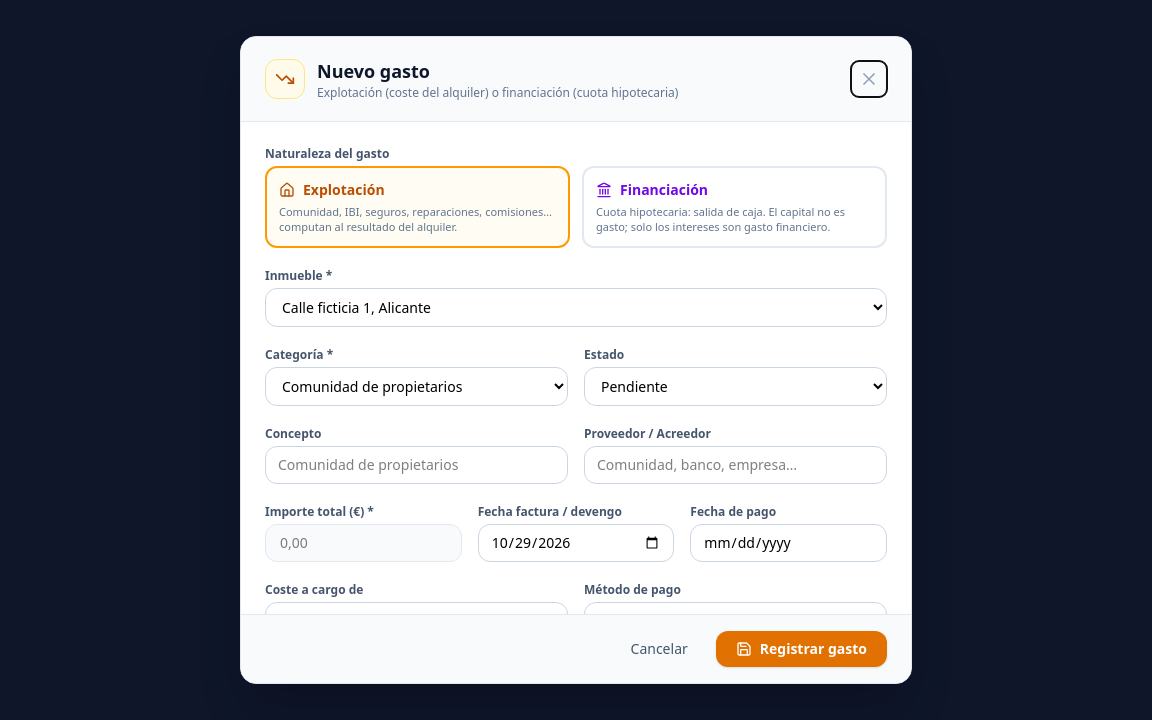
UX-4 · GastoModal › un importe <= 0 impide el envío y el error aparece junto al campo
Step 1. Type "0" into the number field with placeholder "0,00" → {"x": 363, "y": 543}, box [265,524,462,562]
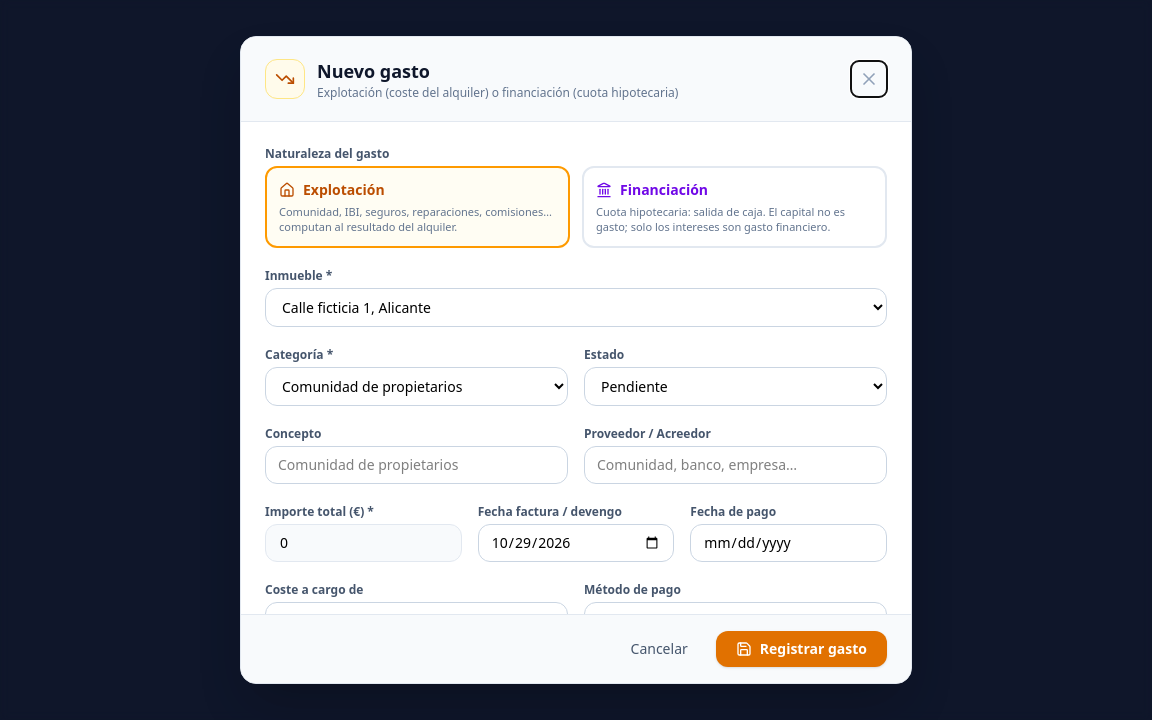
Step 2. Click the button "Registrar gasto" → {"x": 801, "y": 649}, box [716,631,887,667]
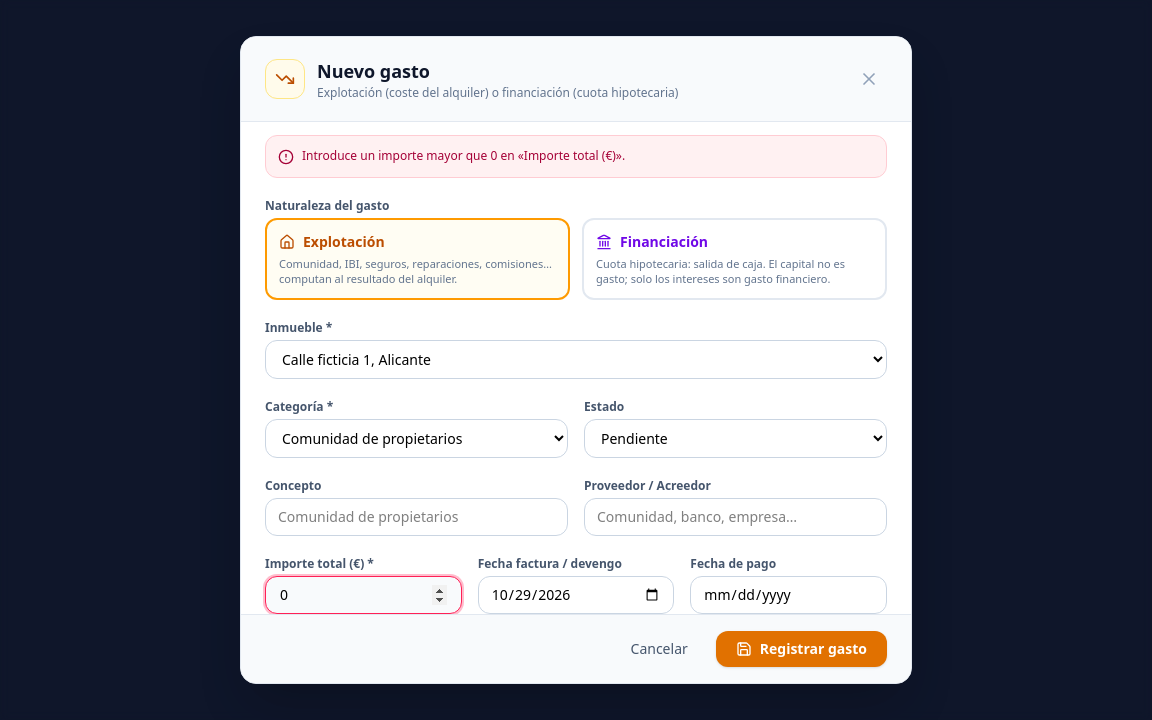
Now the message "Introduce un importe mayor que 0 en «Importe total (€)»." is shown, box [265,135,887,178]
